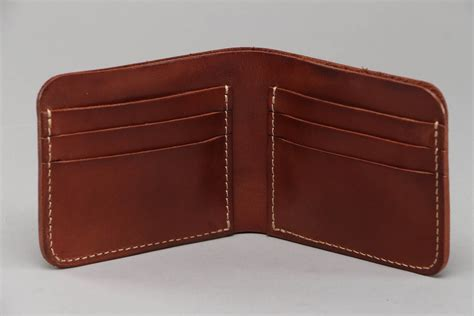cuero: (35, 45, 451, 278)
